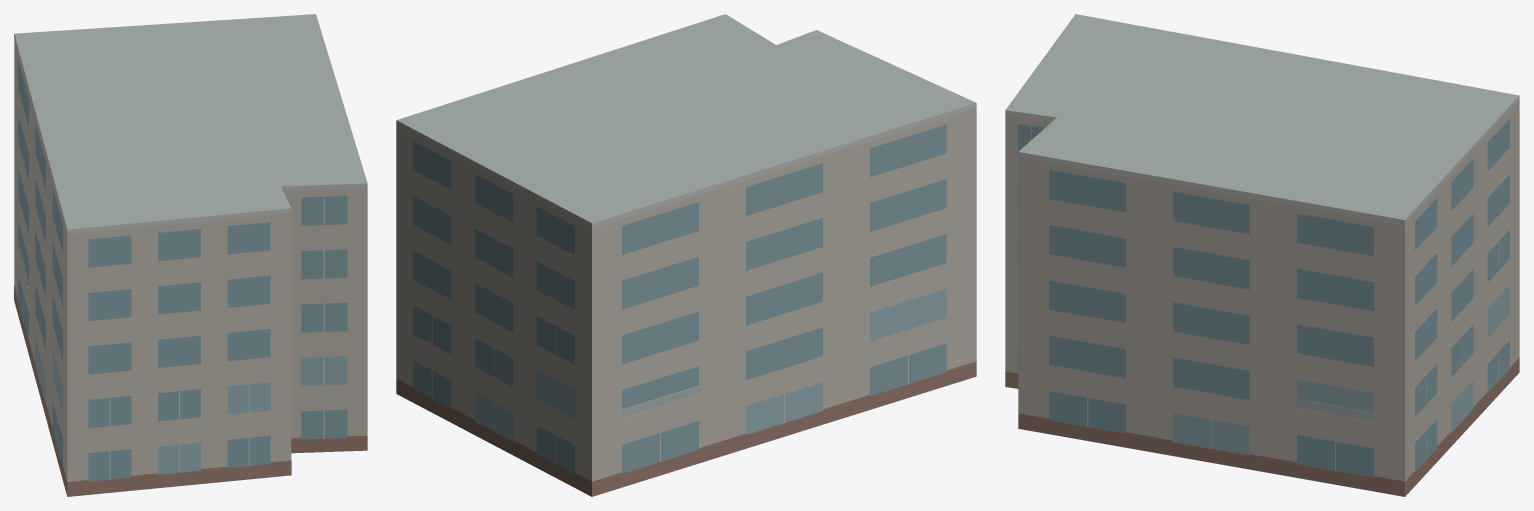
The model's file is survey-upis-32773746.glb.
3 renders of one model, left to right at view 1: azimuth 30°, elevation 25°; view 2: azimuth 150°, elevation 25°; view 3: azimuth 270°, elevation 25°, orthographic. The views are drawn at different scales.
Visible parts, largest first — view 1: survey-upis-32773746.tmp; view 2: survey-upis-32773746.tmp; view 3: survey-upis-32773746.tmp.
Part boxes in pixels (<box>): survey-upis-32773746.tmp: <box>14,14,367,496</box>; survey-upis-32773746.tmp: <box>396,14,976,496</box>; survey-upis-32773746.tmp: <box>1005,14,1519,496</box>.
Bounding box in the file's own units: 21.01 × 13.15 × 22.16.
